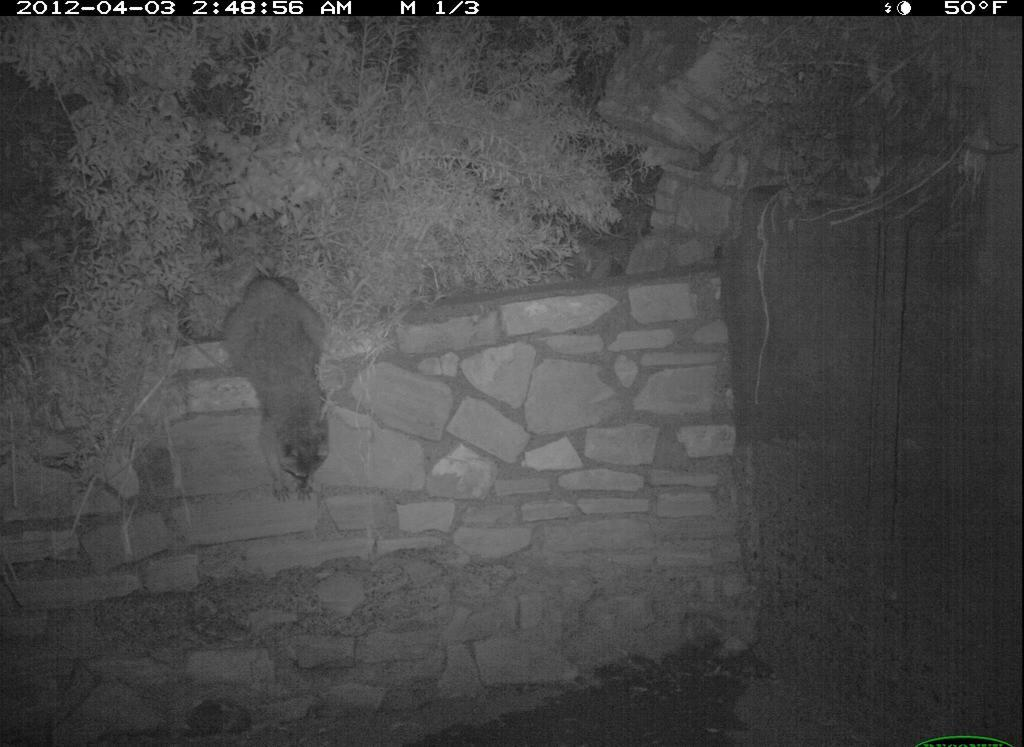raccoon: (214, 265, 342, 511)
